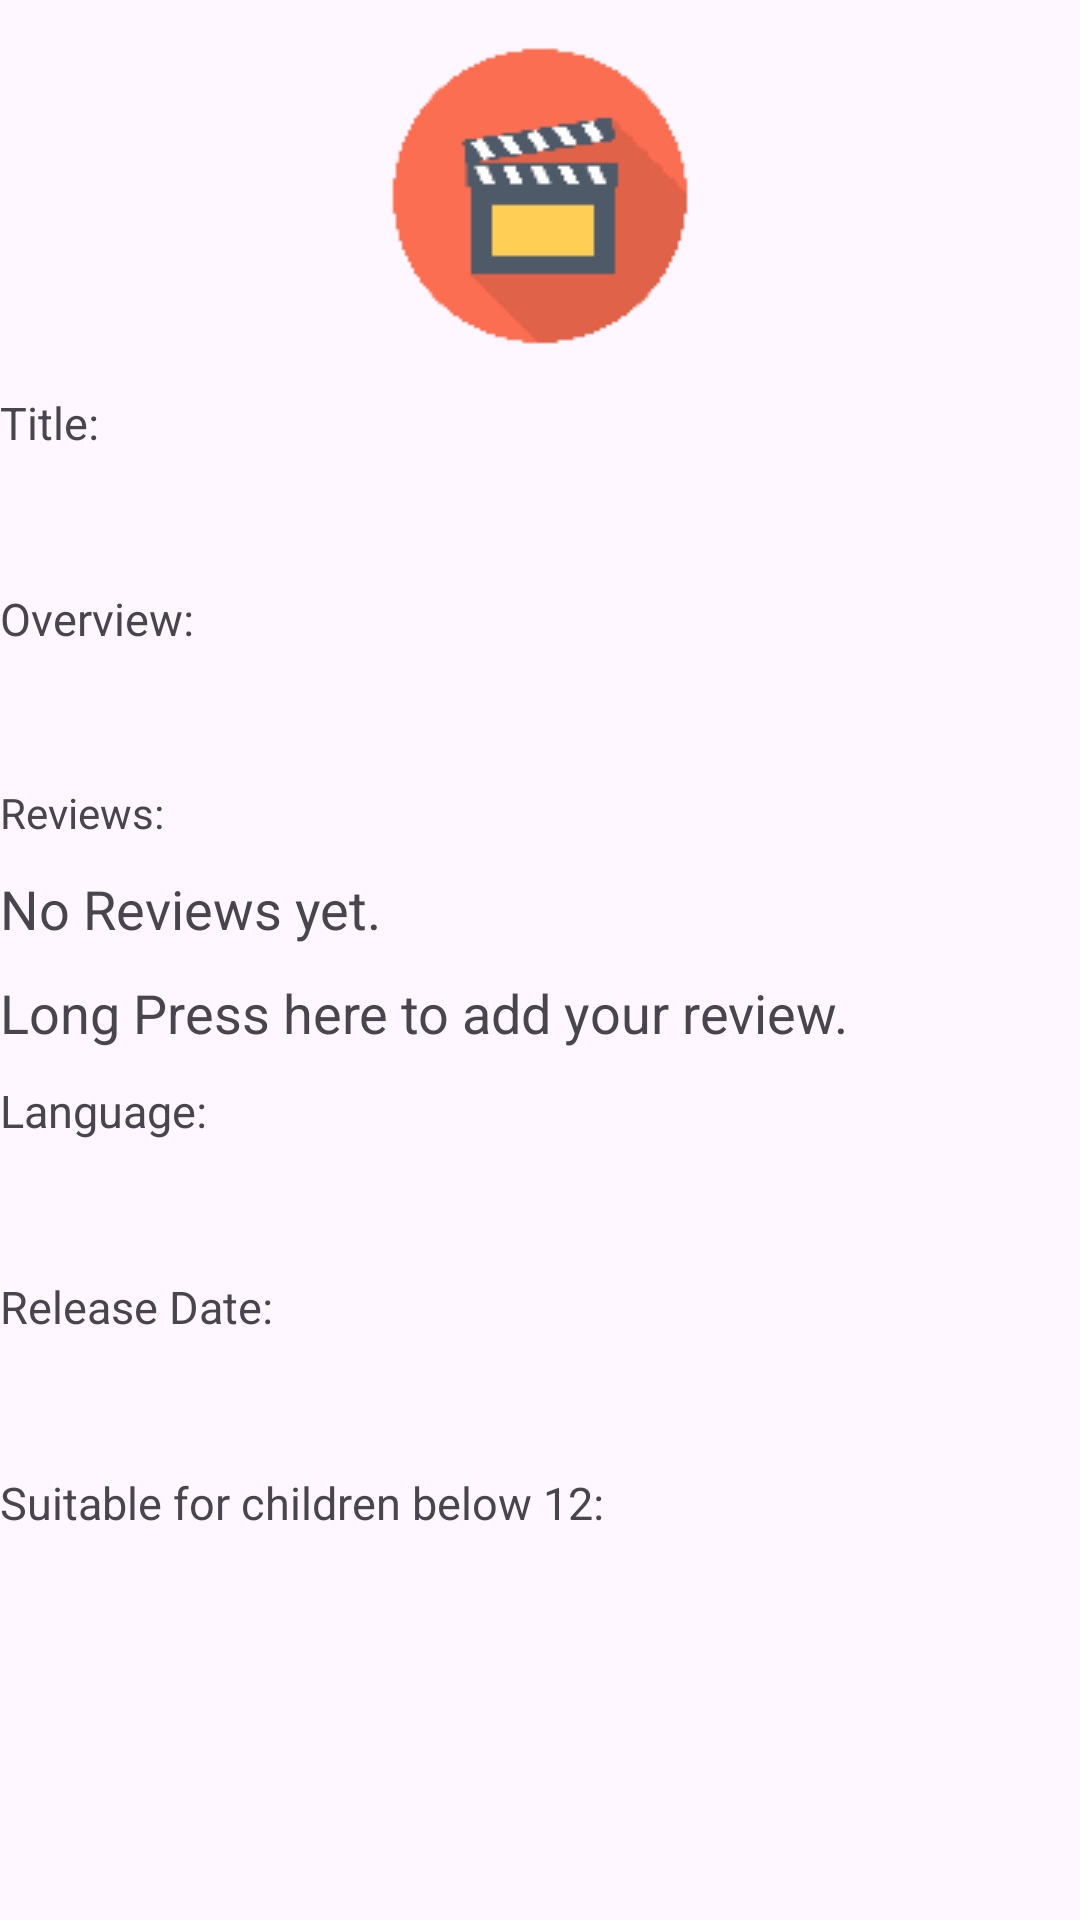

Screen size 1080×1920. Icon name, then its box in pixels as [x1, y1, x2, y2]:
movieicon: [392, 48, 688, 344]
